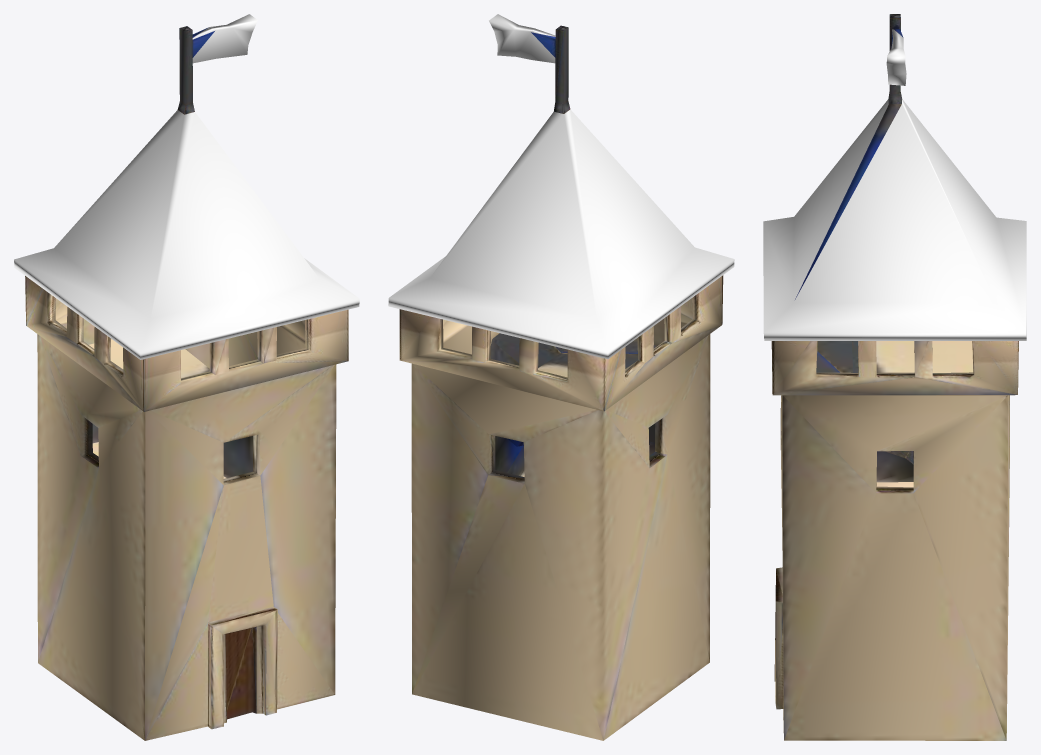
3 renders of one model, left to right at view 1: azimuth 30°, elevation 25°; view 2: azimuth 150°, elevation 25°; view 3: azimuth 270°, elevation 25°, orthographic. The views are drawn at different scales.
Parts seen in each view (by area): view 1: base; view 2: base; view 3: base.
Part boxes in pixels (box(x1,y1,x2,y2)): base: box(14, 14, 359, 740); base: box(388, 14, 734, 740); base: box(763, 14, 1026, 740).
Bounding box in the file's own units: 1.9 × 5.38 × 1.9.
Materials: 2 (1 with a texture image).
